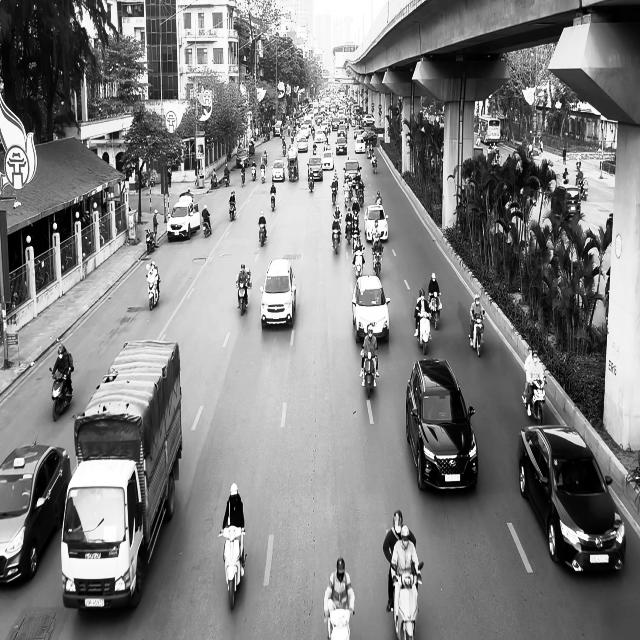bus: (478, 114, 501, 144)
car: (517, 424, 626, 574), (0, 438, 71, 585), (406, 357, 478, 491), (352, 274, 391, 344), (260, 258, 296, 328), (167, 199, 200, 241), (364, 204, 388, 242), (271, 159, 285, 182)
motorbike: (392, 560, 423, 640), (218, 526, 247, 610), (49, 365, 74, 421), (522, 377, 546, 424), (326, 606, 354, 640), (360, 348, 378, 396), (469, 311, 485, 357), (415, 310, 431, 354), (428, 292, 442, 330), (146, 274, 160, 310), (352, 244, 365, 278), (236, 279, 248, 315), (371, 244, 383, 276), (331, 217, 341, 254), (145, 228, 155, 254), (202, 214, 212, 238), (259, 222, 267, 246), (307, 166, 314, 191), (229, 198, 236, 221), (270, 191, 276, 211), (241, 169, 245, 187)
truck: (61, 338, 182, 612)
